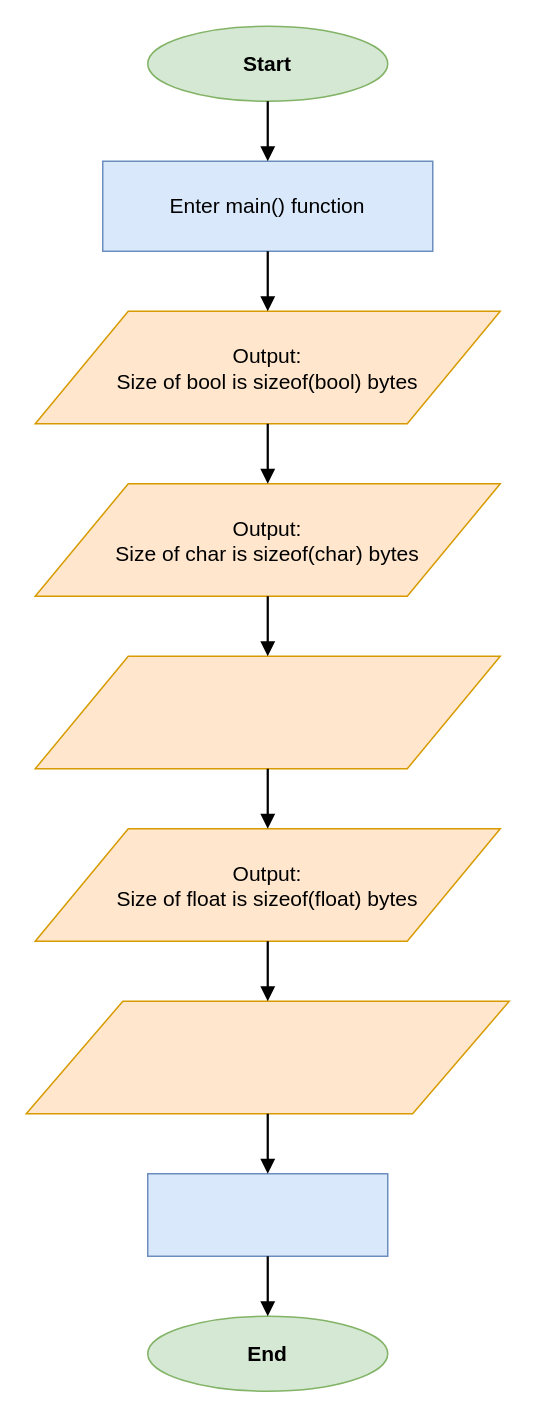
Some shapes in this 536 by 1418 pixel diagram are drawn without their labels. Here are the shapes that lost their labels. From the top down, the centre of each, then its label:
At [267,712]: "Output: Size of int is sizeof(int) bytes".
At [267,1057]: "Output: Size of double is sizeof(double) bytes".
At [267,1214]: "Return 0".
